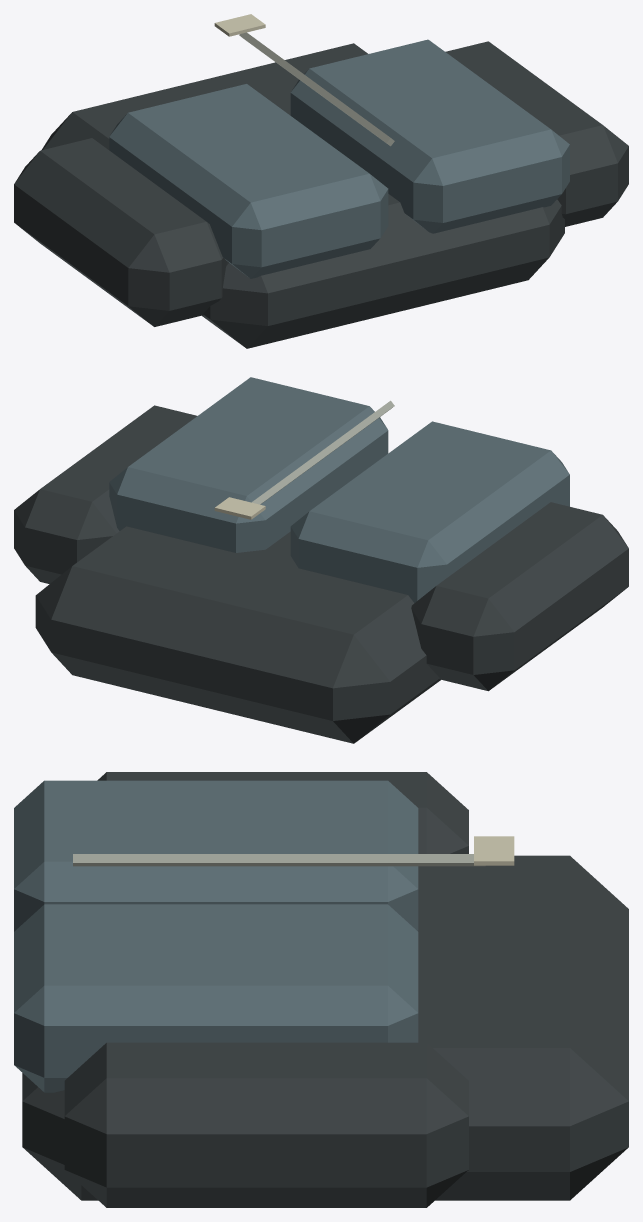
The model's file is suit.glb.
3 renders of one model, top to bottom at view 1: azimuth 30°, elevation 25°; view 2: azimuth 150°, elevation 25°; view 3: azimuth 270°, elevation 25°, orthographic. The views are drawn at different scales.
Visible parts, largest first — view 1: folded leg.001, folded leg, folded torso, folded sleeve, folded sleeve.001, zipper.001, size label; view 2: folded torso, folded leg, folded leg.001, folded sleeve, folded sleeve.001, zipper.001, size label; view 3: folded torso, folded sleeve.001, folded leg.001, folded leg, folded sleeve, zipper.001, size label.
Part boxes in pixels (<box>): folded leg.001: <box>290,39,569,233</box>; folded leg: <box>109,84,388,278</box>; folded torso: <box>41,43,564,348</box>; folded sleeve: <box>14,138,227,326</box>; folded sleeve.001: <box>445,41,628,226</box>; zipper.001: <box>239,32,394,146</box>; size label: <box>214,14,265,36</box>; folded torso: <box>35,526,440,743</box>; folded leg: <box>290,421,569,602</box>; folded leg.001: <box>109,377,388,552</box>; folded sleeve: <box>411,502,628,691</box>; folded sleeve.001: <box>14,405,196,583</box>; zipper.001: <box>251,400,394,504</box>; size label: <box>214,497,265,519</box>; folded torso: <box>22,855,628,1200</box>; folded sleeve.001: <box>64,1042,468,1207</box>; folded leg.001: <box>14,904,418,1092</box>; folded leg: <box>14,780,418,931</box>; folded sleeve: <box>97,772,468,853</box>; zipper.001: <box>73,854,485,866</box>; size label: <box>474,836,514,865</box>.
Bounding box in the file's own units: 0.48 × 0.1675 × 0.365.
